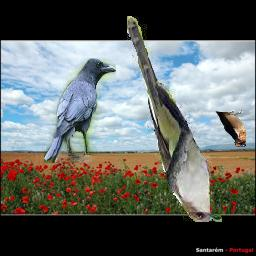Crow: (44, 59, 116, 164)
Cuckoo: (128, 16, 223, 222)
Swallow: (216, 107, 247, 147)
